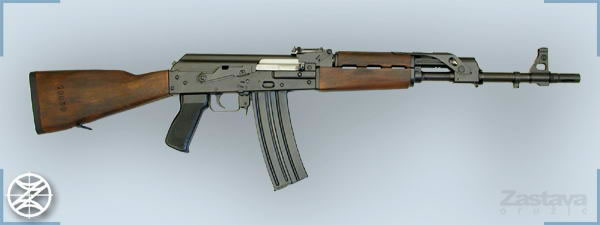rifle: (26, 28, 584, 202)
